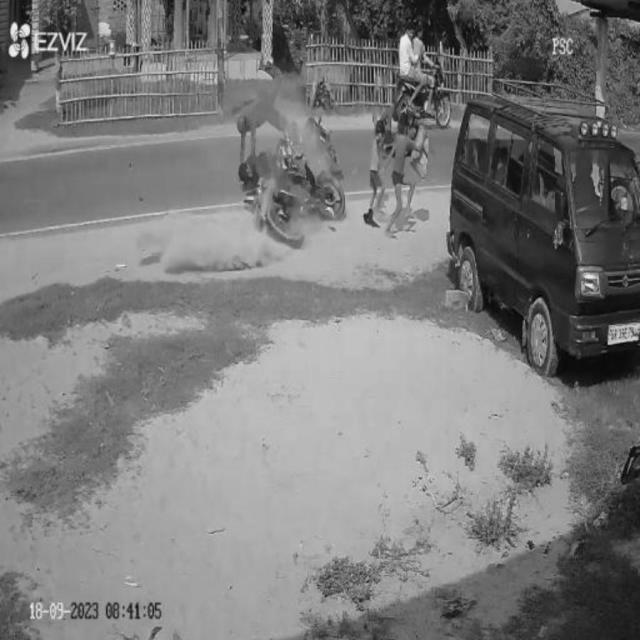accident: (244, 112, 346, 246)
person: (390, 112, 424, 225), (366, 117, 390, 230)
vehicle: (445, 83, 640, 383), (394, 18, 456, 134)
